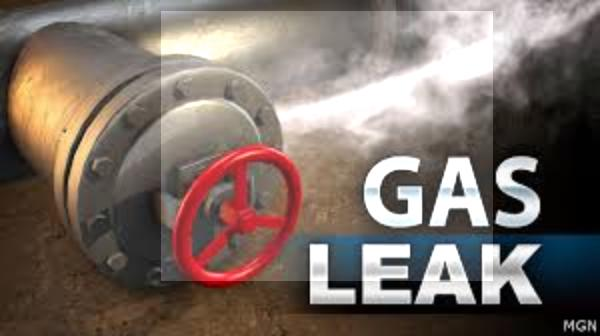gas: (161, 11, 493, 281)
